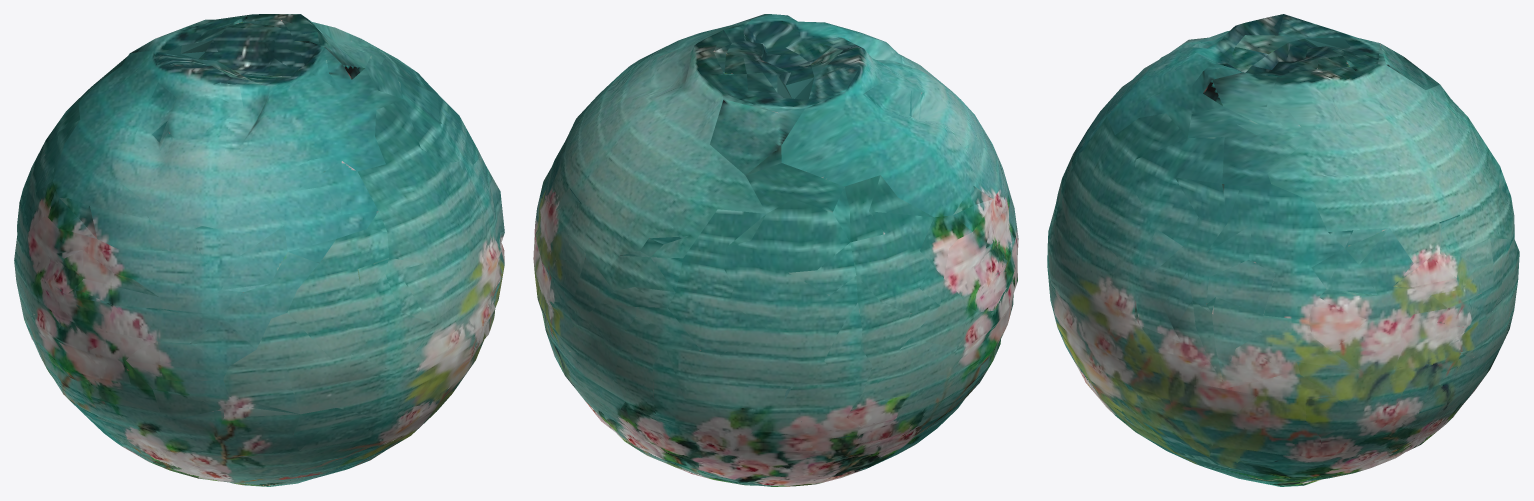
File: AC1 Bobbi Roses.glb
3 renders of one model, left to right at view 1: azimuth 30°, elevation 25°; view 2: azimuth 150°, elevation 25°; view 3: azimuth 270°, elevation 25°, orthographic. The views are drawn at different scales.
Bounding box in the file's own units: 1000 × 953 × 986.
Materials: 1 (1 with a texture image).
